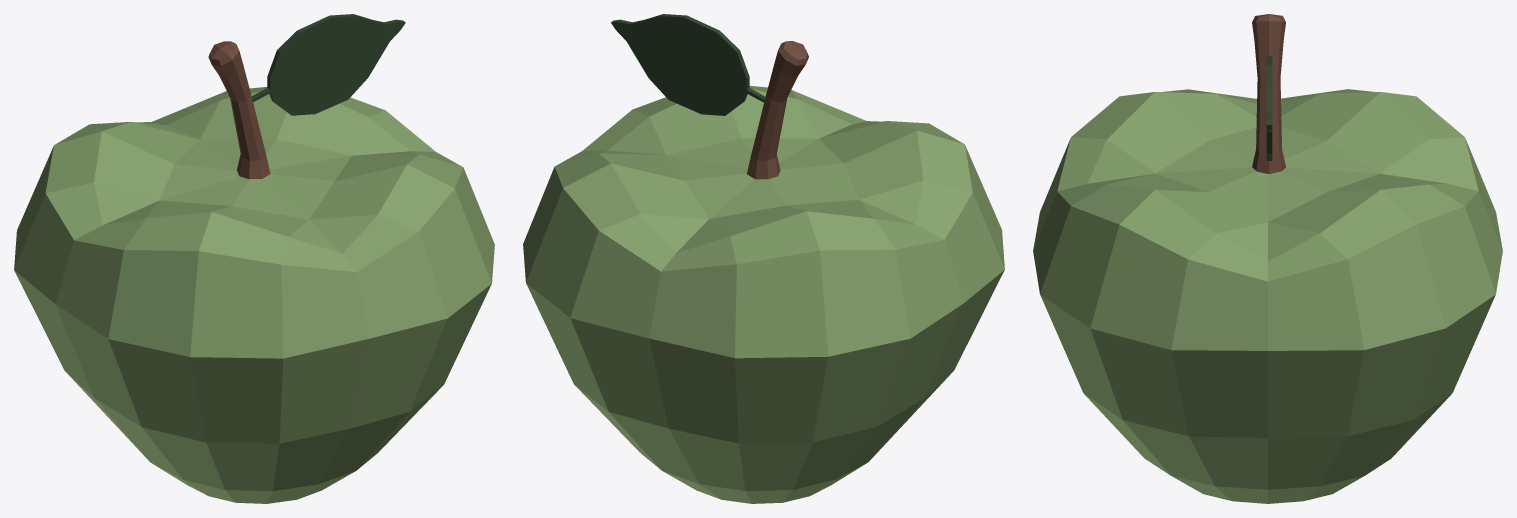
Rendered from Apple_Green.glb.
3 renders of one model, left to right at view 1: azimuth 30°, elevation 25°; view 2: azimuth 150°, elevation 25°; view 3: azimuth 270°, elevation 25°, orthographic. The views are drawn at different scales.
Parts seen in each view (by area): view 1: Apple_Green; view 2: Apple_Green; view 3: Apple_Green.
Boxes of the visible parts, x1,y1,x2,y2 form: Apple_Green: (14,14,494,503); Apple_Green: (523,14,1004,503); Apple_Green: (1033,14,1502,503).
Size of the model in its own units: 0.8025 by 0.8517 by 0.7987.
